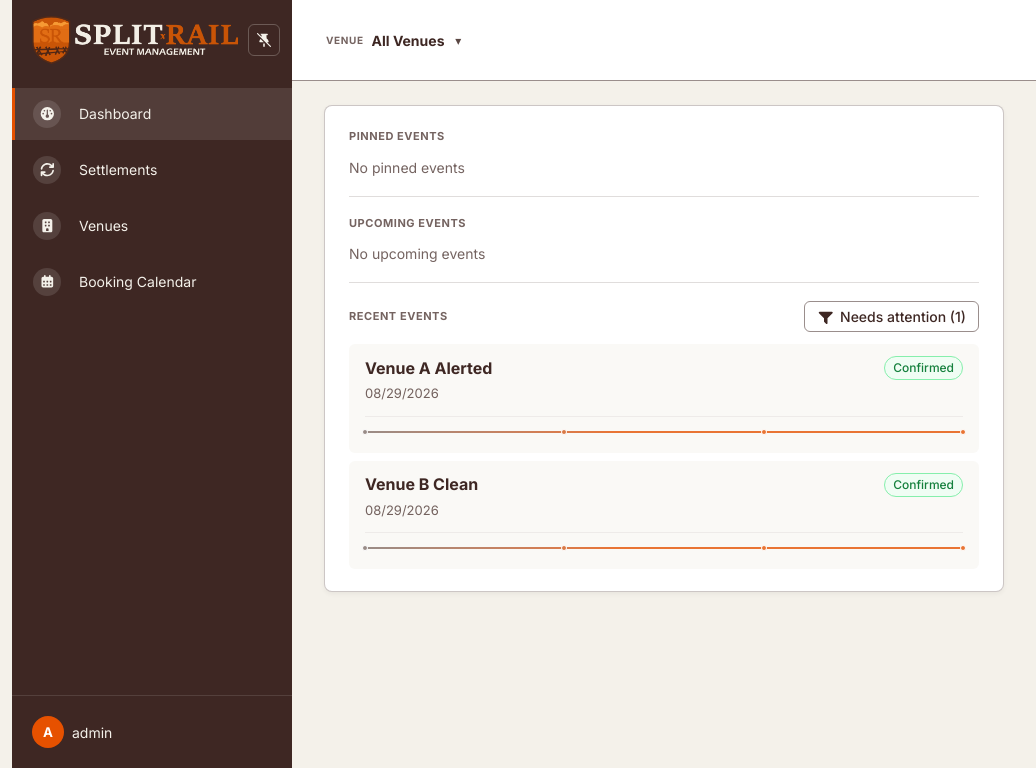
Test: DashboardOverviewPage › bottleneck filter › resets filter when venue changes
Expected: the heading "Venue A Alerted" is shown, x1=365 y1=358 x2=492 y2=378
Click the button with test id "bottleneck-filter-toggle".
click(891, 316)  # box x1=804 y1=301 x2=979 y2=332
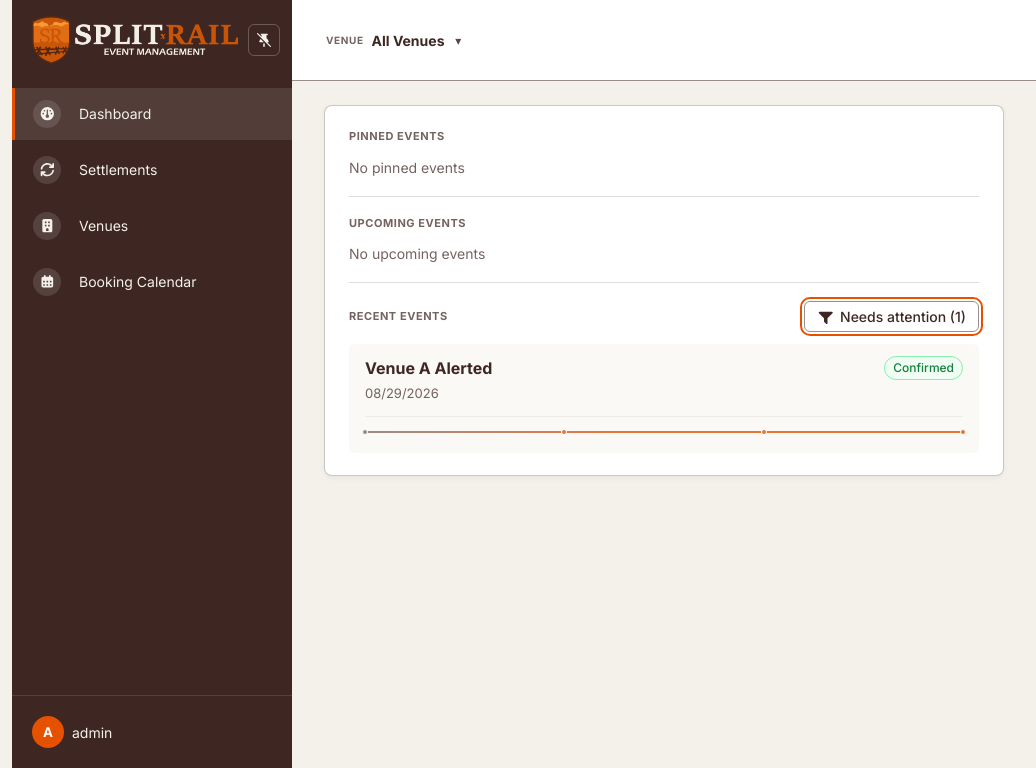
Click the button with test id "venue-switcher-trigger".
click(387, 40)  # box x1=324 y1=26 x2=450 y2=54
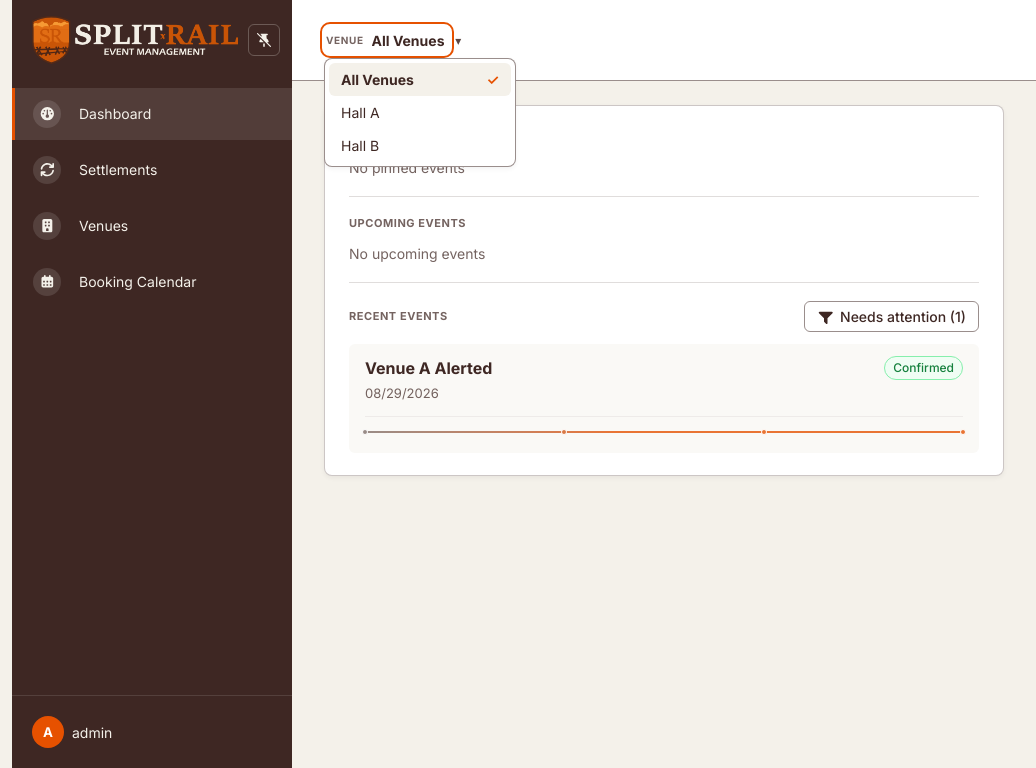
Click the option "Hall B".
click(420, 146)  # box x1=329 y1=129 x2=511 y2=162
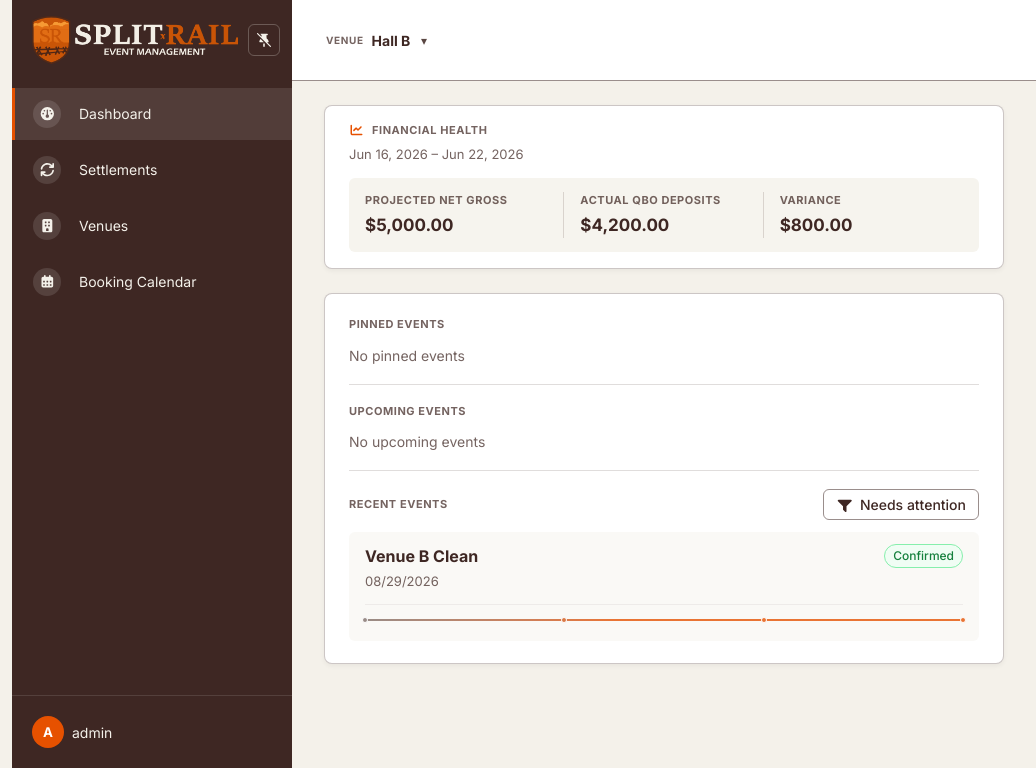
Now the heading "Venue B Clean" is shown, box x1=365 y1=546 x2=478 y2=566
